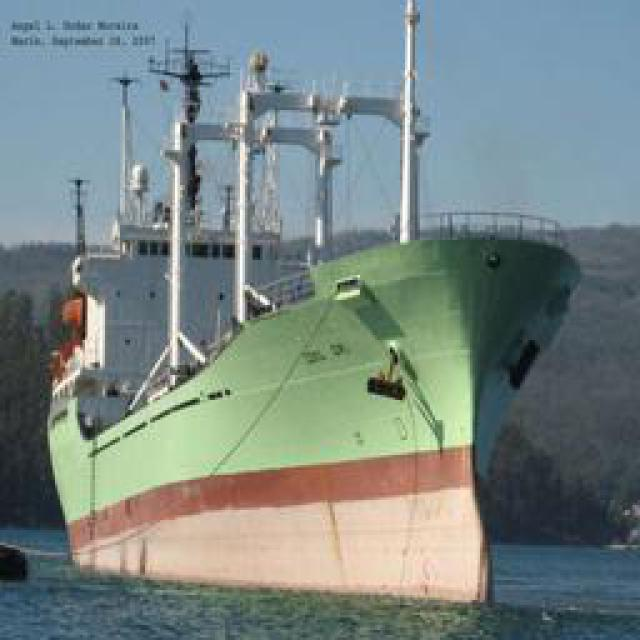Ship: (46, 23, 584, 608)
